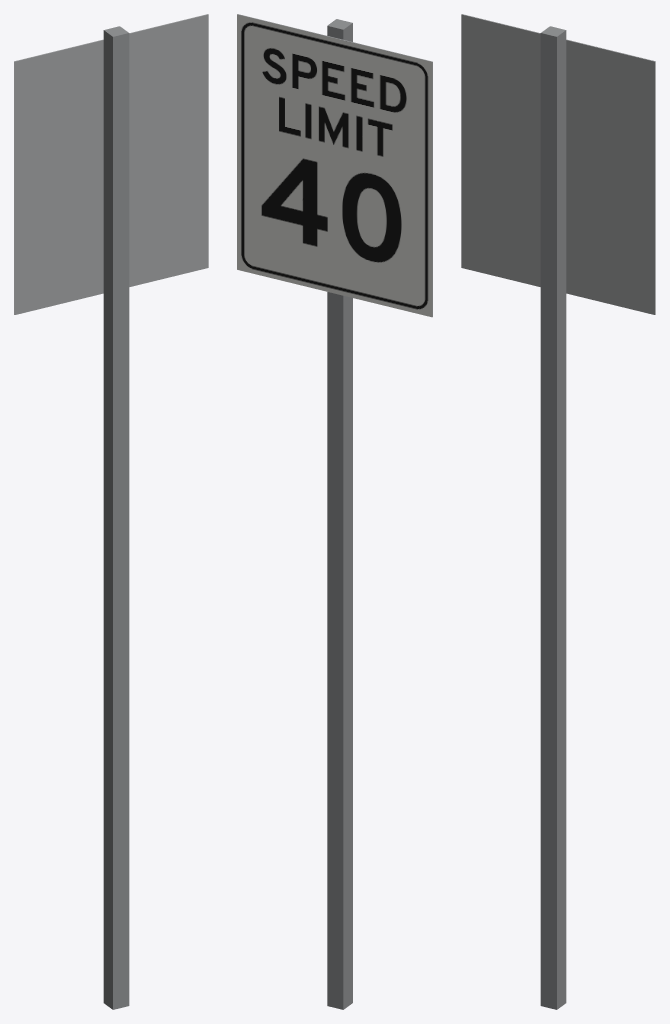
Rendered from sign_r2-1_speed_40.glb.
3 renders of one model, left to right at view 1: azimuth 30°, elevation 25°; view 2: azimuth 150°, elevation 25°; view 3: azimuth 330°, elevation 25°, orthographic.
Parts seen in each view (by area): view 1: sign_r2-1_speed_40; view 2: sign_r2-1_speed_40; view 3: sign_r2-1_speed_40.
Part boxes in pixels (left/top/right/bottom): sign_r2-1_speed_40: left=14, top=14, right=208, bottom=1009; sign_r2-1_speed_40: left=237, top=14, right=432, bottom=1009; sign_r2-1_speed_40: left=461, top=14, right=655, bottom=1009.
Size of the model in its own units: 0.6096 by 2.93 by 0.0543.
3 materials, 1 textured.
